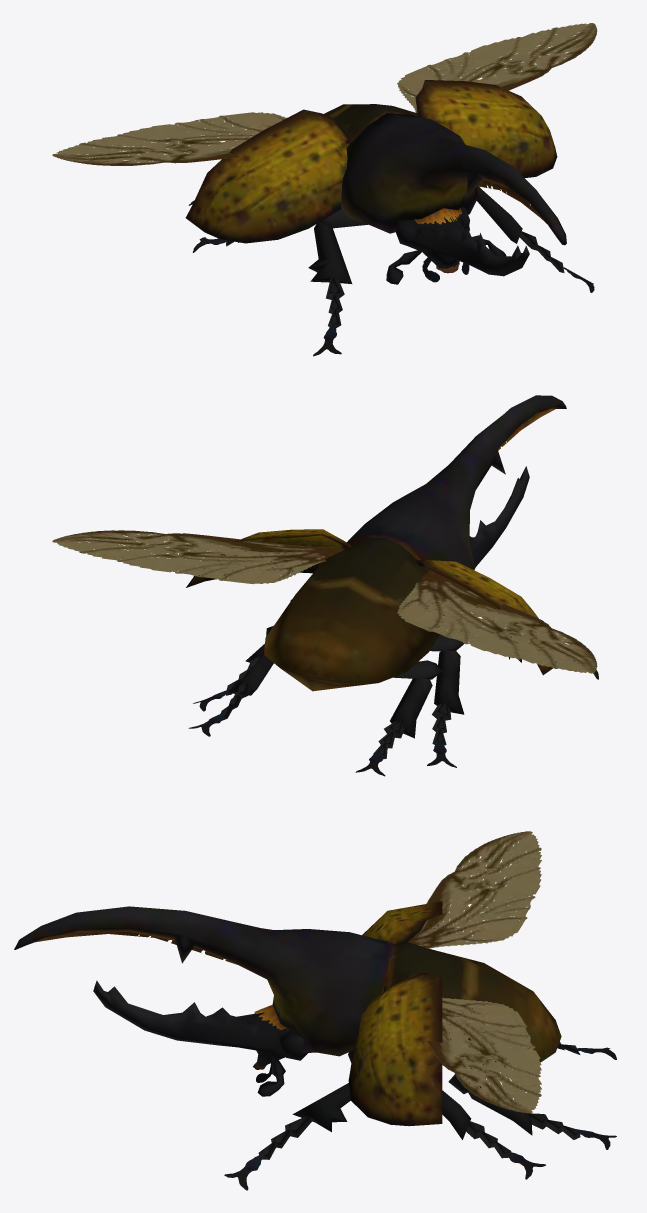
File: horned-hercules.glb
3 views of the same model, one above another, from view 1: azimuth 30°, elevation 25°; view 2: azimuth 150°, elevation 25°; view 3: azimuth 270°, elevation 25° (orthographic). The views are drawn at different scales.
Bounding box in the file's own units: 8.82 × 2.74 × 7.16.
2 materials, 2 textured.
